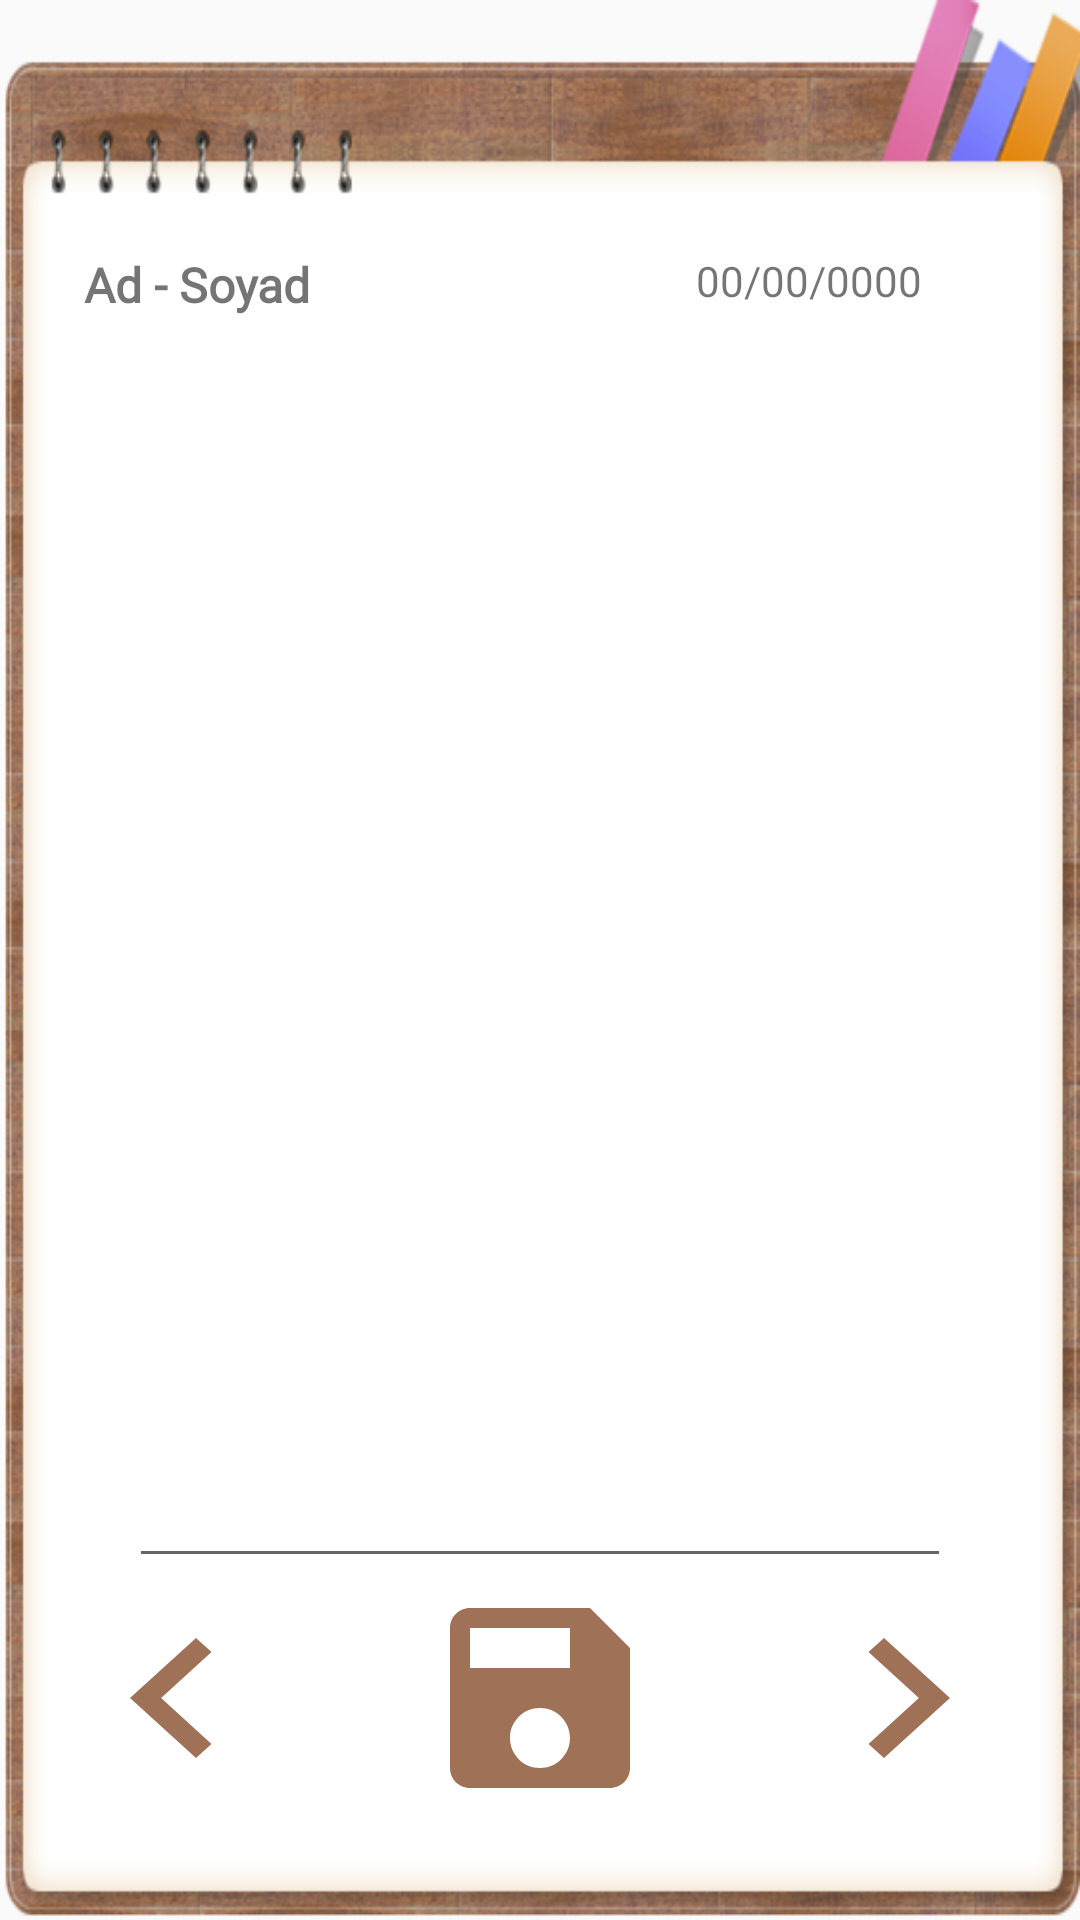

Named icons in this screenshot (1080px x 1920px) and their centers, point (x, y):
gunkuksolgecis: point (170, 1698)
gunlukkaydet: point (540, 1698)
gunluksaggecis: point (909, 1698)
